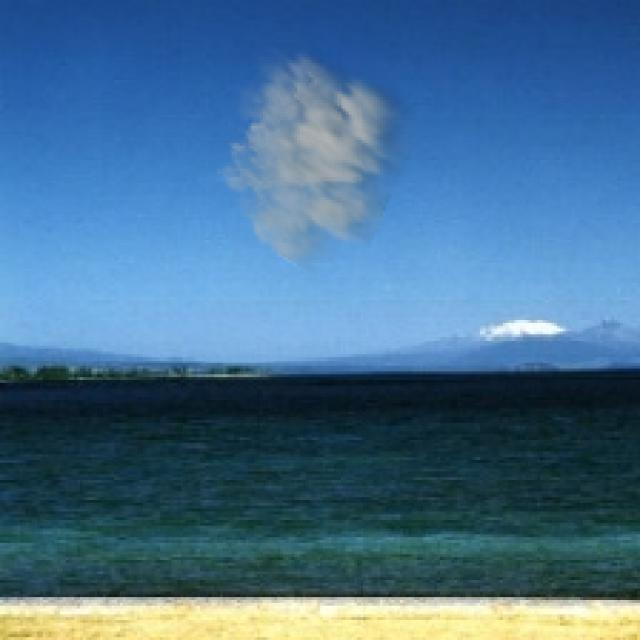smoke: (214, 43, 426, 277)
